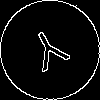Y: (25, 25, 76, 81)
